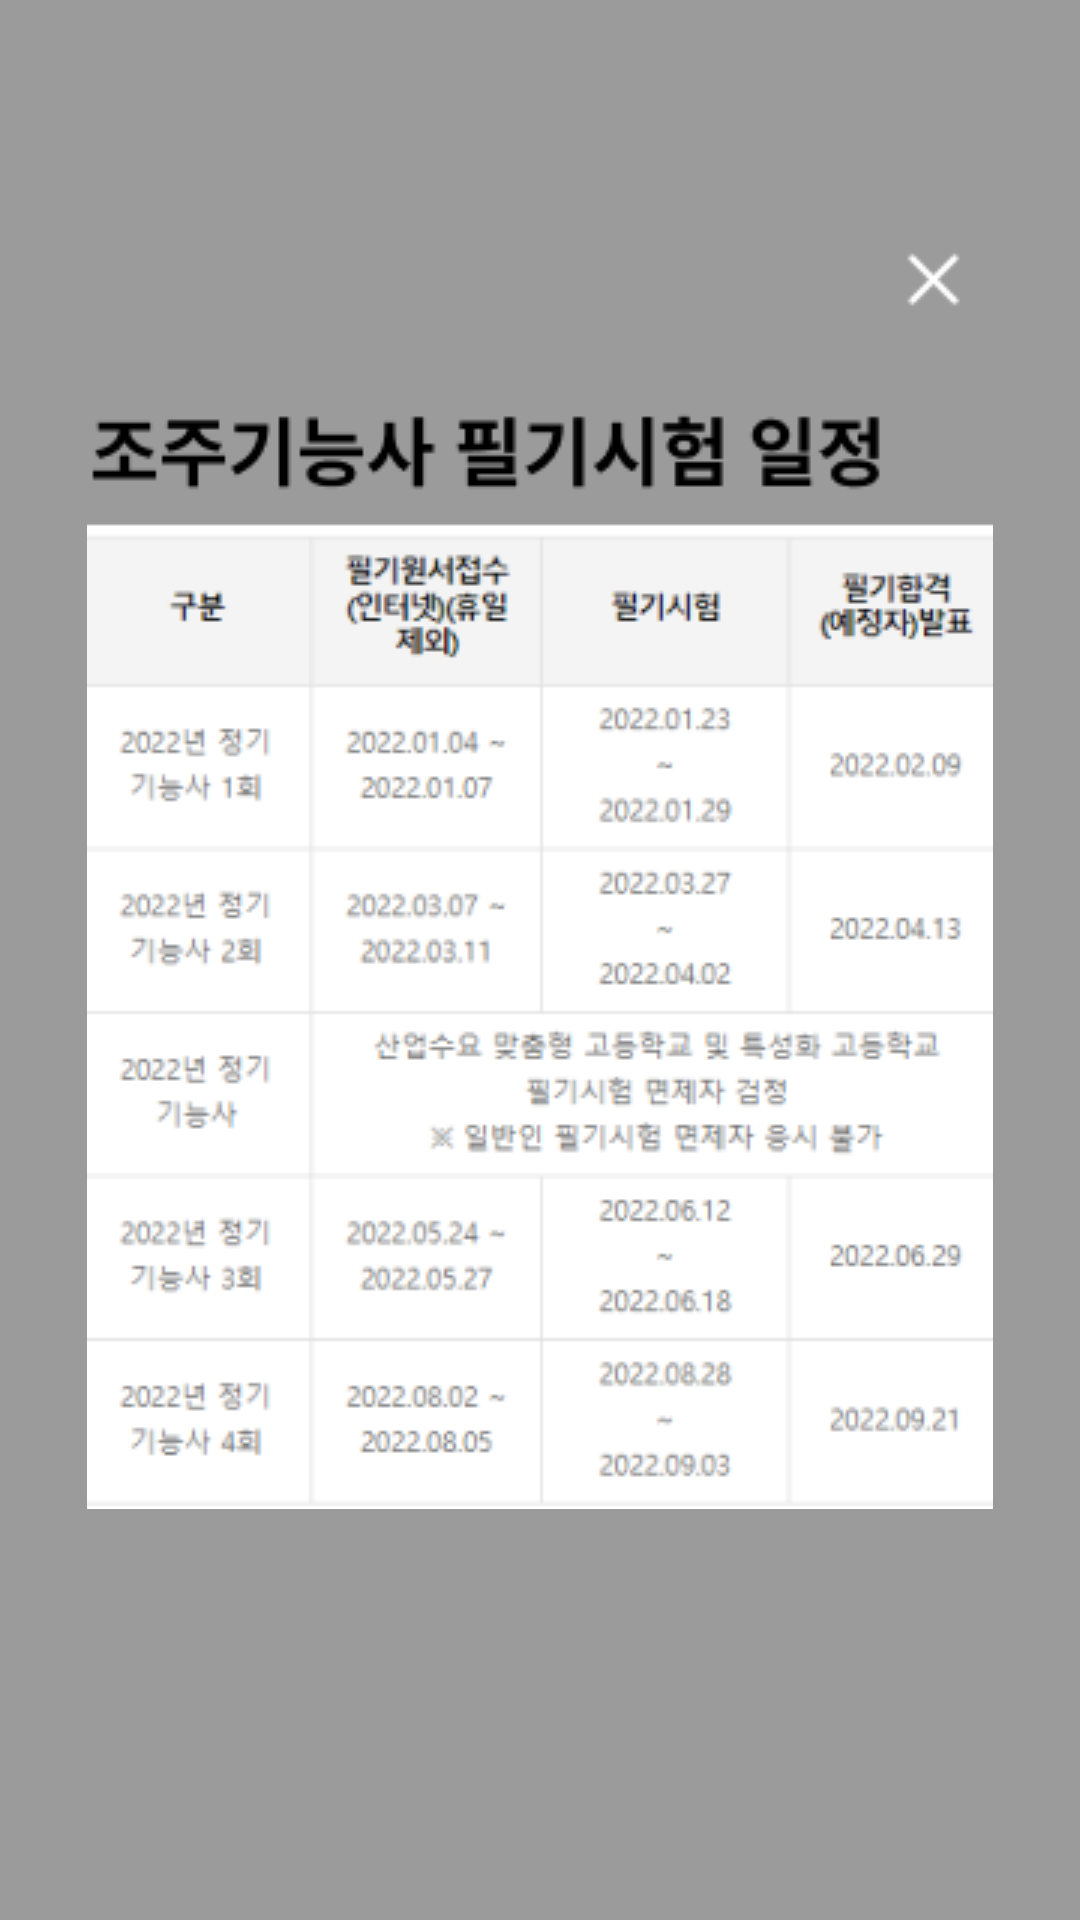

Icons on this 1080 x 1920 Android screen, each with the point to tap as (x,y):
close: (933,279)
